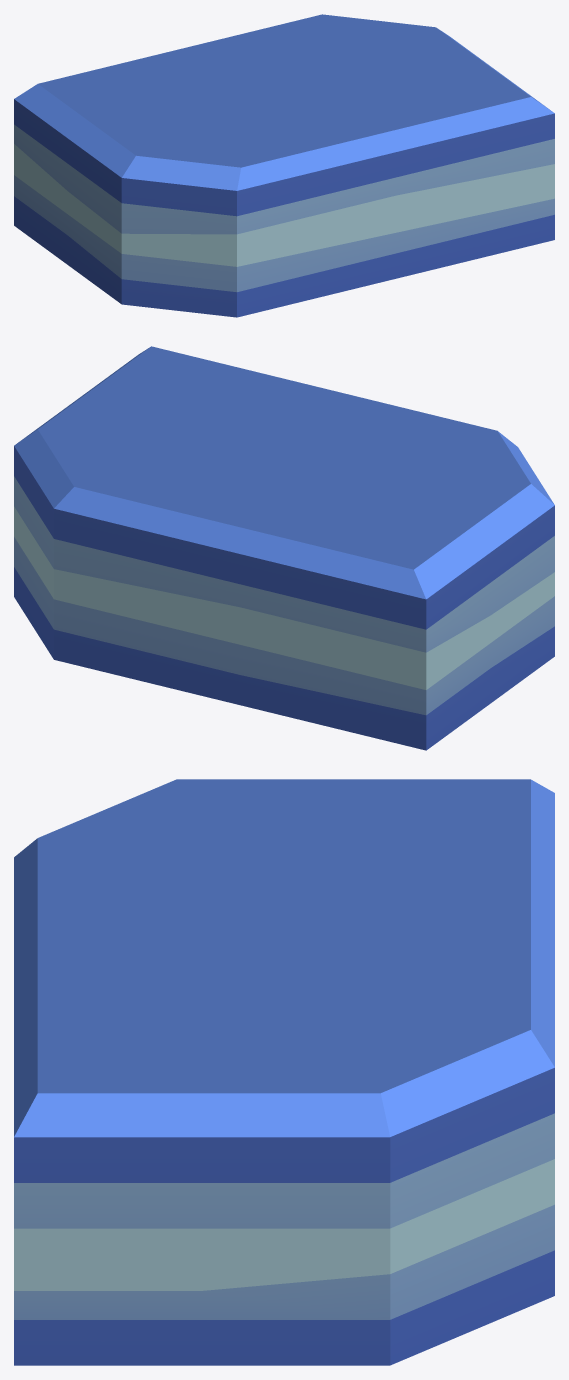
File: StoneWall035.fbx
The picture shows the model from 3 angles, top to bottom: view 1: azimuth 30°, elevation 25°; view 2: azimuth 150°, elevation 25°; view 3: azimuth 270°, elevation 25°; orthographic projection. The views are drawn at different scales.
Parts seen in each view (by area): view 1: StoneWall035; view 2: StoneWall035; view 3: StoneWall035.
Part boxes in pixels (x1=…): StoneWall035: x1=14, y1=14, x2=554, y2=317; StoneWall035: x1=14, y1=346, x2=554, y2=750; StoneWall035: x1=14, y1=779, x2=554, y2=1365.
Bounding box in the file's own units: 533 × 186 × 354.
